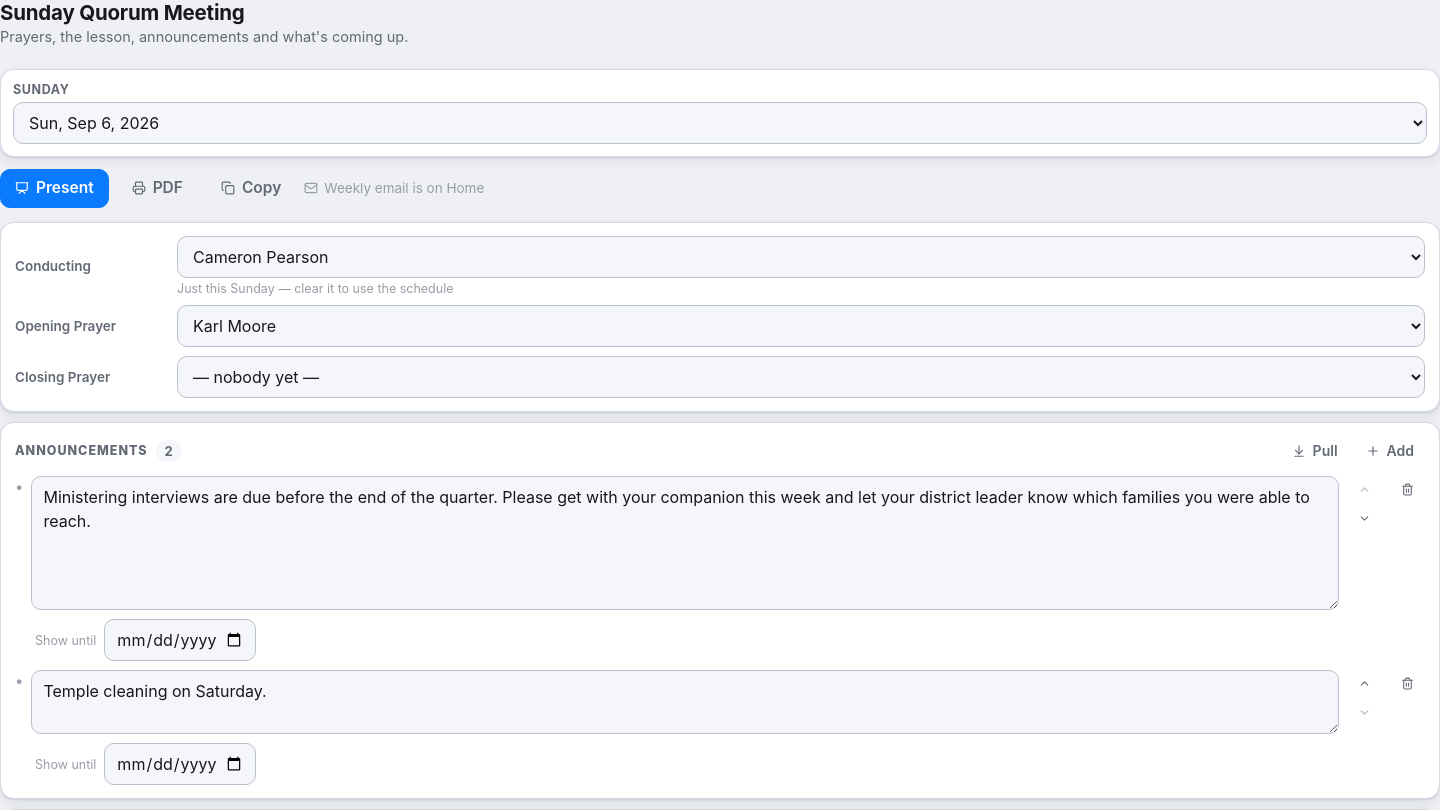
Test: presentation mode › shows the whole announcement, uncut
Click the button "Present".
click(54, 188)  # box [0,169,109,208]
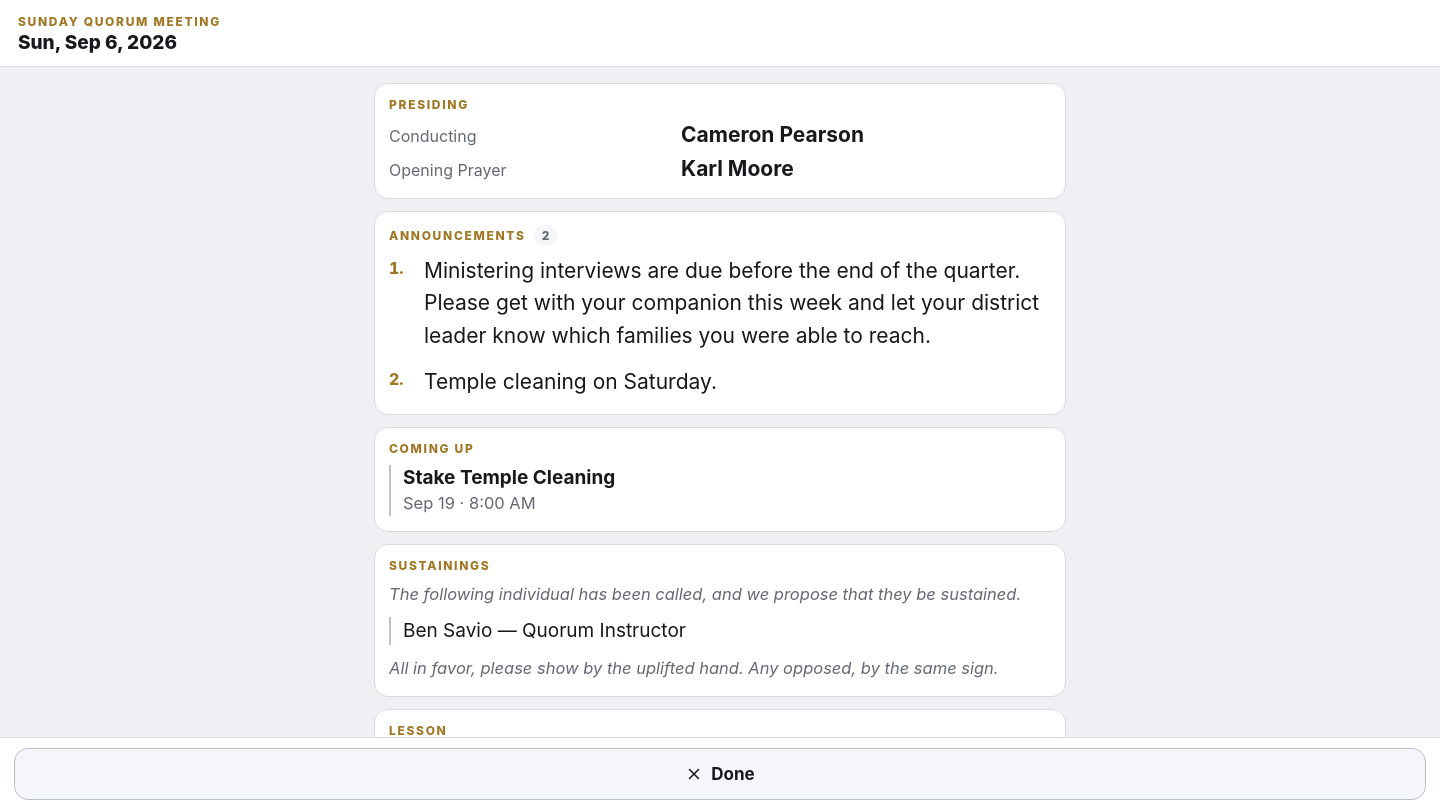
Check: the element that starts with "Sunday Quorum Meeting" is shown
